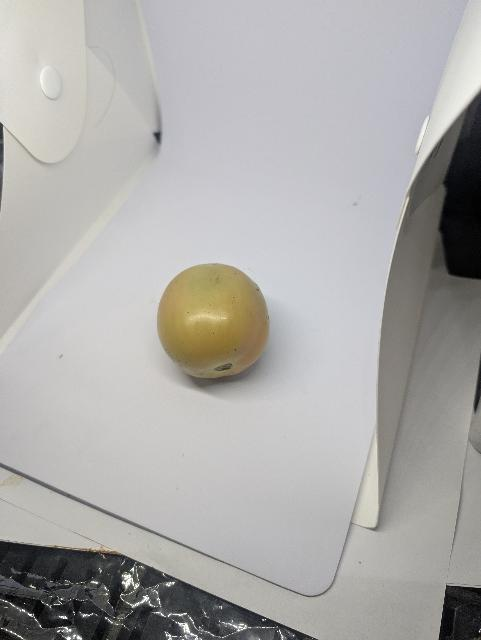breaker: (154, 260, 275, 383)
